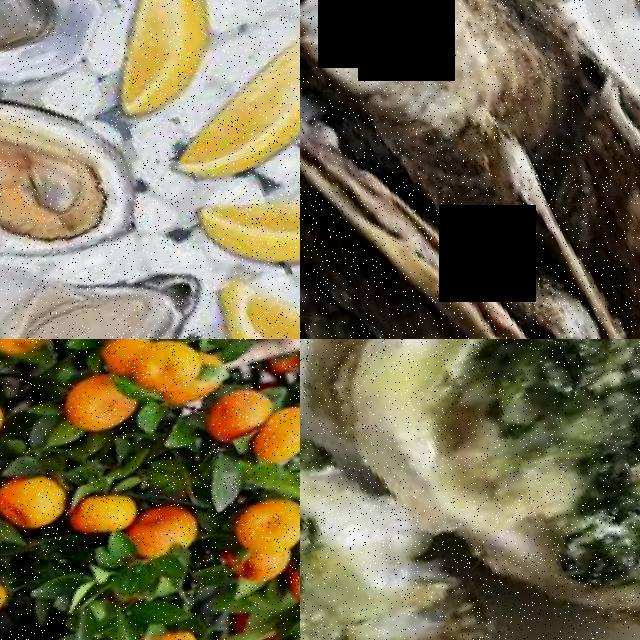lemon: (150, 10, 300, 189), (182, 110, 300, 301), (73, 0, 239, 119), (203, 222, 300, 339)
orange: (51, 357, 137, 442), (219, 474, 300, 559), (192, 365, 279, 444), (113, 339, 210, 404), (120, 488, 201, 562), (0, 457, 70, 539), (237, 384, 300, 467), (0, 339, 60, 361), (141, 634, 239, 640)
oysters: (0, 34, 144, 309), (0, 189, 197, 339)
